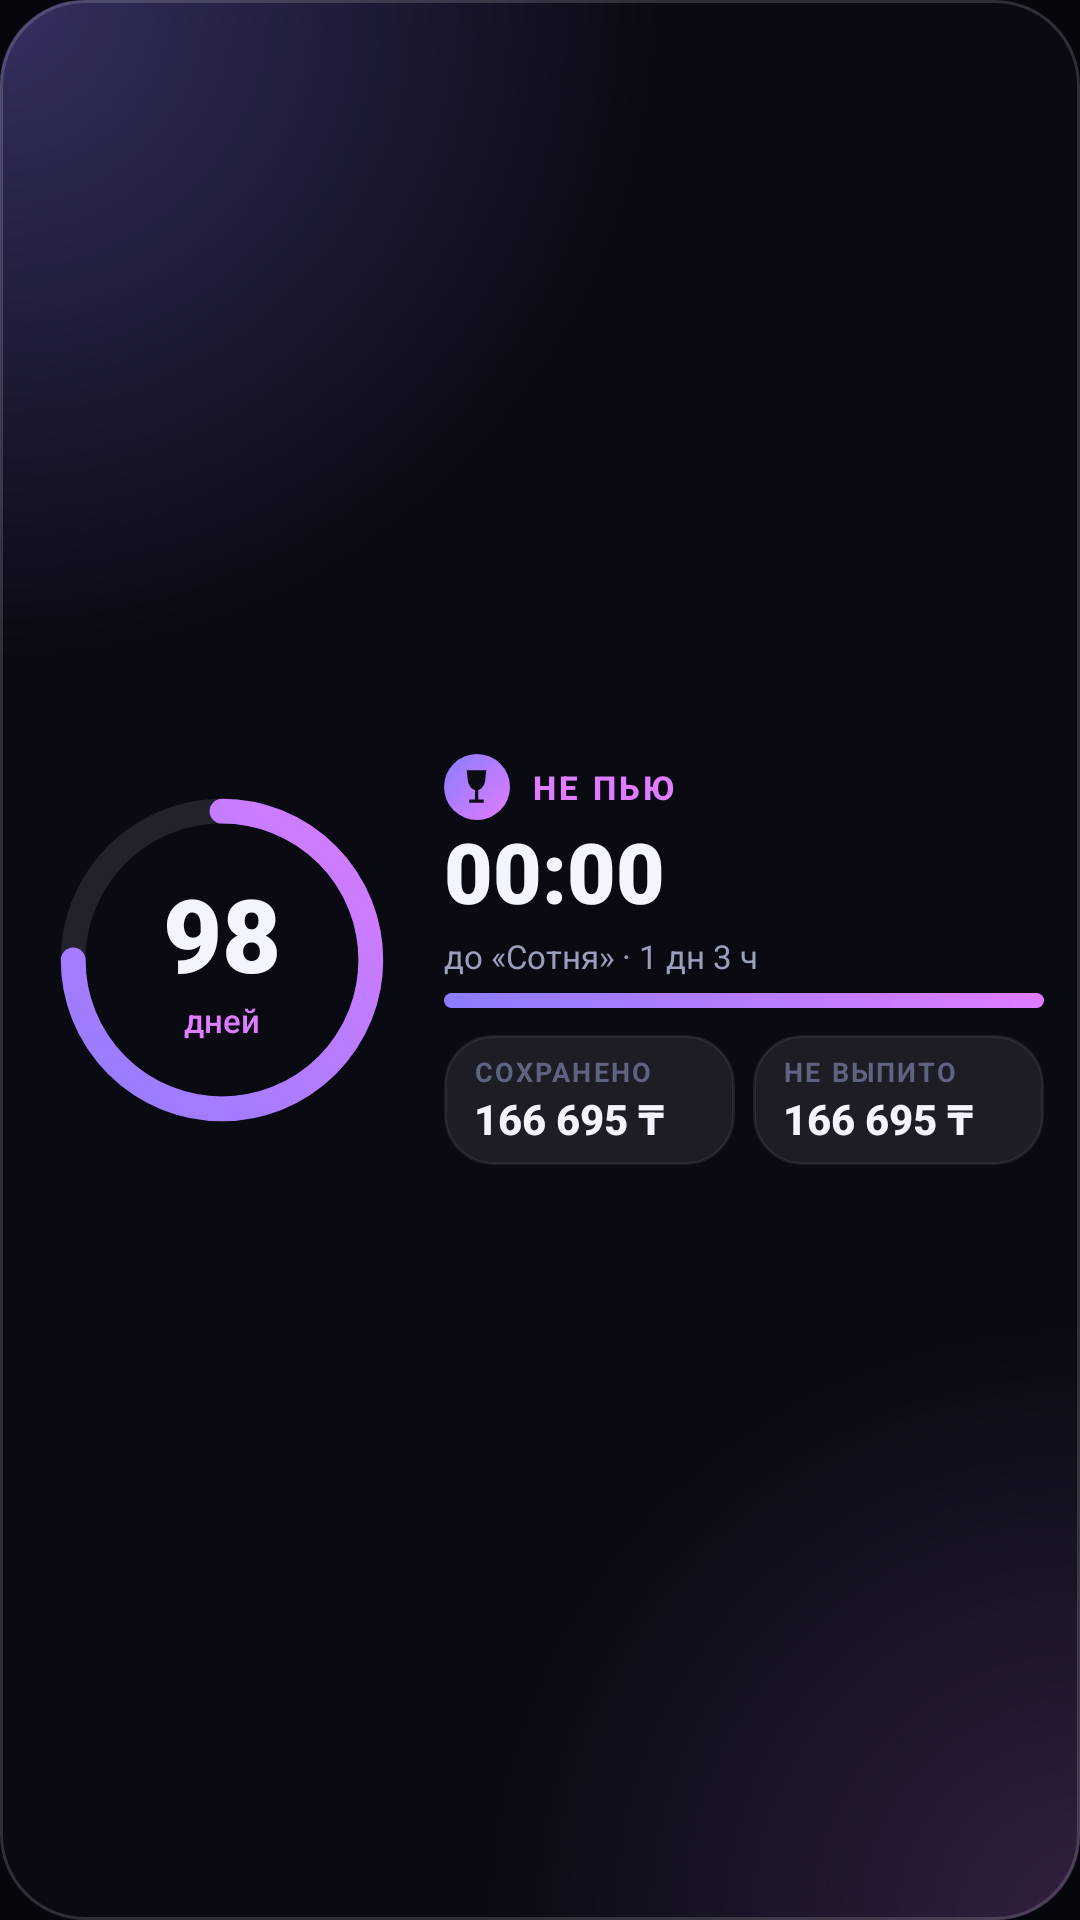

Icons on this 1080 × 1920 Android screen, each with its box as [x1, y1, x2, y2]:
wine: [466, 770, 487, 803]
